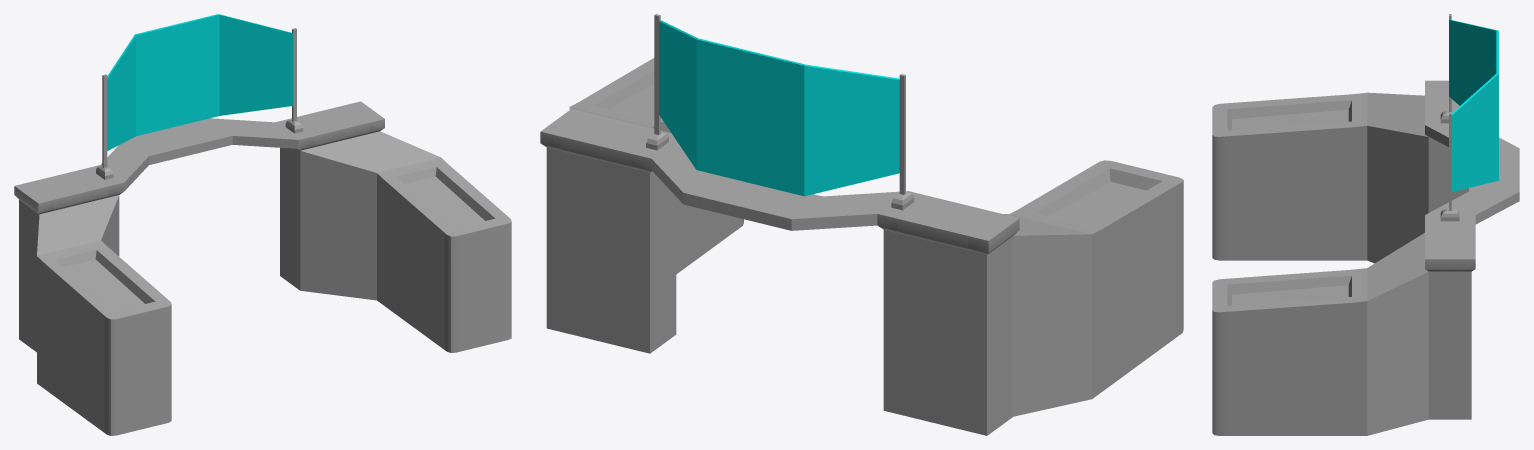
Rendered from workstation.fbx.
3 views of the same model, side by side, from view 1: azimuth 30°, elevation 25°; view 2: azimuth 150°, elevation 25°; view 3: azimuth 270°, elevation 25° (orthographic). The views are drawn at different scales.
Parts seen in each view (by area): view 1: table, monitor; view 2: table, monitor; view 3: table, monitor.
Boxes of the visible parts, x1,y1,x2,y2 form: table: (14, 101, 511, 435); monitor: (96, 14, 303, 179); table: (540, 58, 1183, 435); monitor: (646, 14, 914, 210); table: (1212, 80, 1519, 435); monitor: (1440, 14, 1498, 221).
Bounding box in the file's own units: 2.96 × 1.85 × 1.84.
